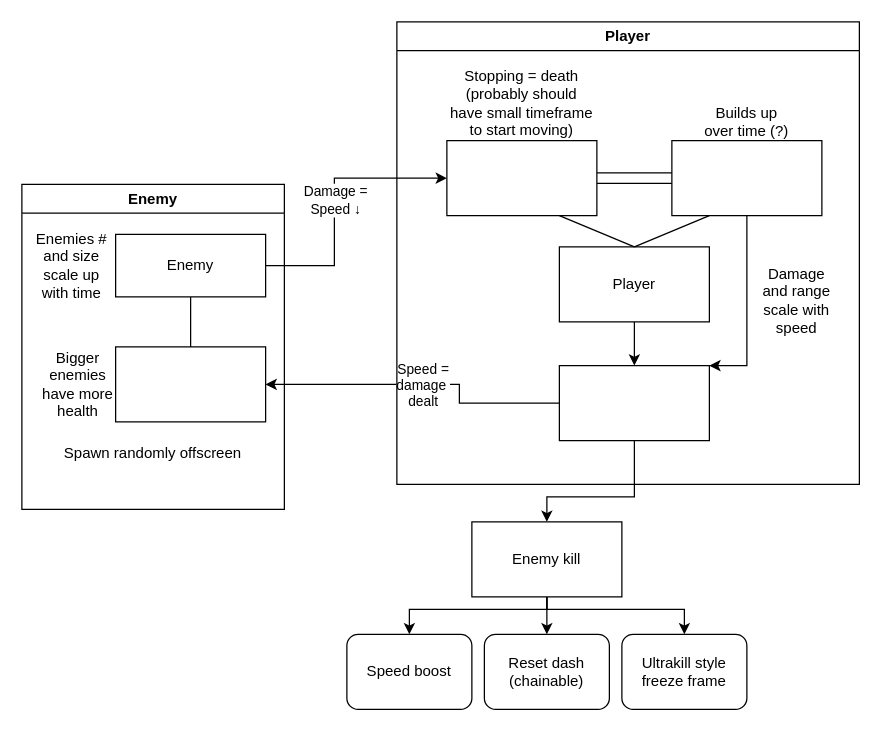
Some shapes in this 881 by 731 pixel diagram are drawn without their labels. Each missing label, with the box of its shape:
"health": (446, 139, 597, 216)
Dash (5 sec cooldown): (558, 364, 709, 441)
Health: (114, 346, 266, 422)
Speed: (671, 139, 822, 216)
